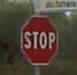stop: (19, 12, 58, 66)
